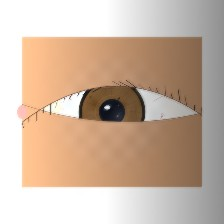pinguecula_lesion: (31, 91, 72, 124)
